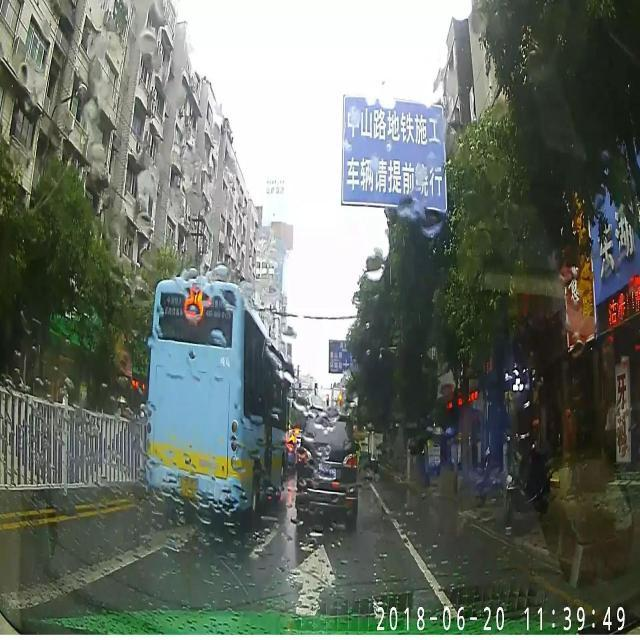car: (292, 408, 360, 536)
